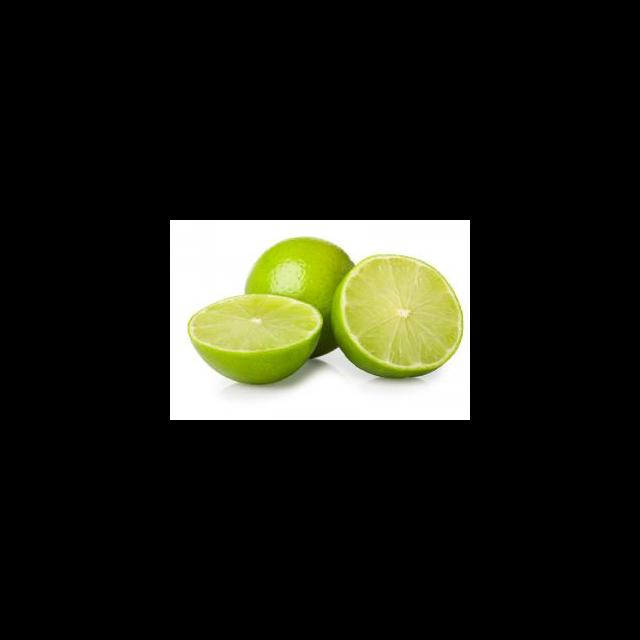lime: (327, 249, 465, 383), (241, 232, 361, 362), (184, 288, 325, 386)
